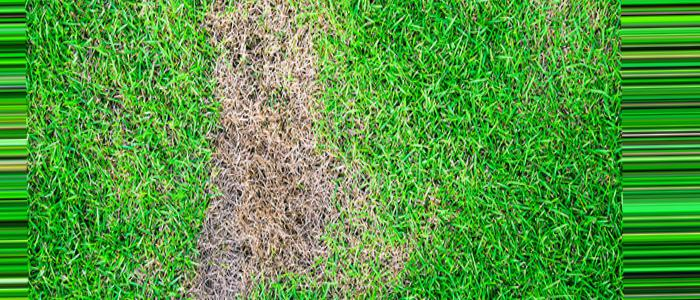patch: (235, 114, 334, 172), (227, 28, 322, 79), (303, 187, 373, 243), (207, 198, 288, 246), (388, 214, 425, 254), (294, 256, 343, 286), (204, 260, 245, 290)
